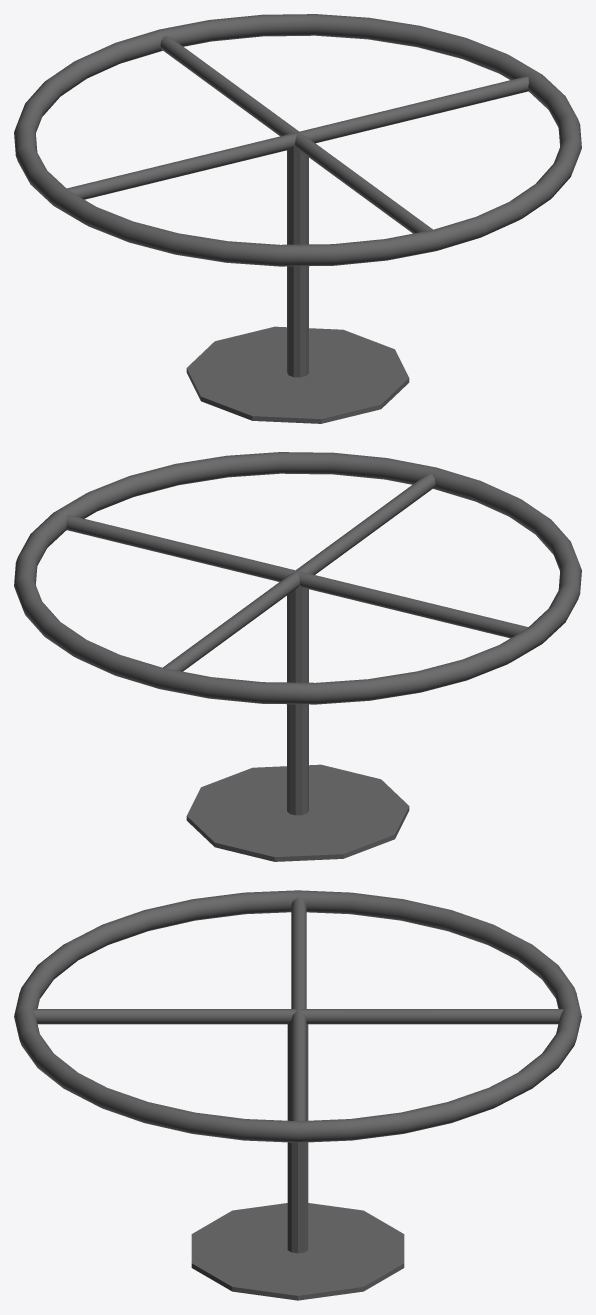
The model's file is hanger_round.fbx.
The picture shows the model from 3 angles, top to bottom: view 1: azimuth 30°, elevation 25°; view 2: azimuth 150°, elevation 25°; view 3: azimuth 270°, elevation 25°; orthographic projection.
Parts seen in each view (by area): view 1: hanger_round; view 2: hanger_round; view 3: hanger_round.
Part boxes in pixels (box(x1,y1,x2,y2)): hanger_round: box(14, 14, 581, 423); hanger_round: box(14, 452, 581, 861); hanger_round: box(14, 890, 581, 1300).
Size of the model in its own units: 208 by 99.51 by 208.
